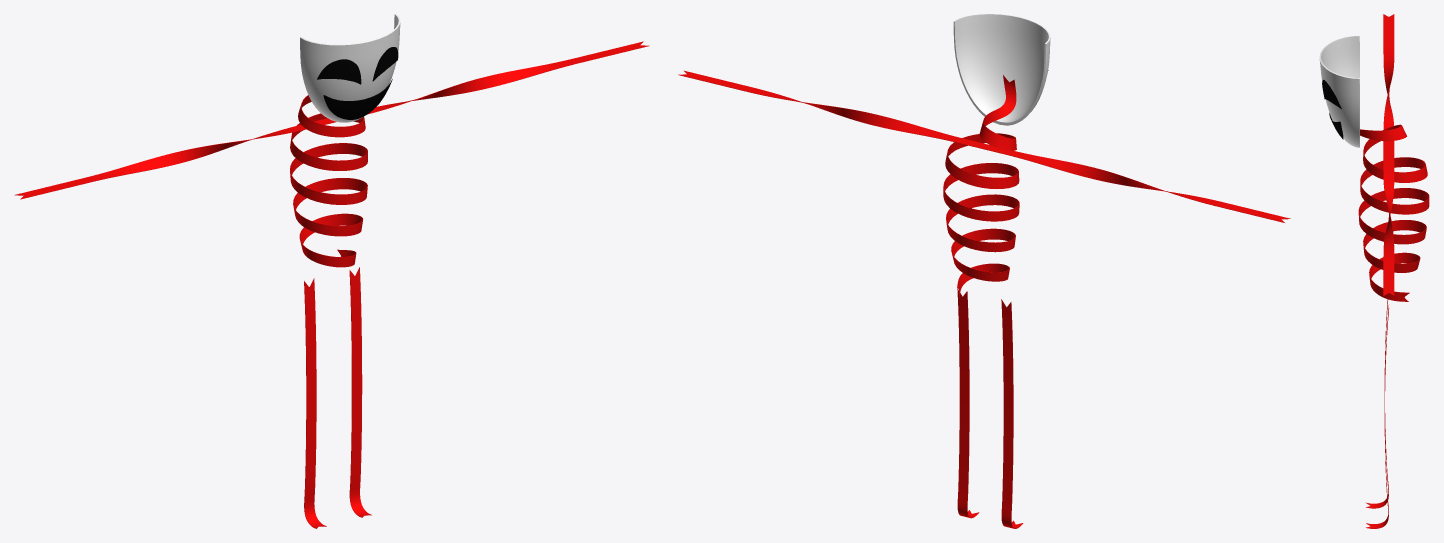
File: gangle.glb
3 views of the same model, side by side, from view 1: azimuth 30°, elevation 25°; view 2: azimuth 150°, elevation 25°; view 3: azimuth 270°, elevation 25° (orthographic). The views are drawn at different scales.
Visible parts, largest first — view 1: Object_8; view 2: Object_8; view 3: Object_8.
Part boxes in pixels (left/top/right/bottom): Object_8: left=14, top=14, right=649, bottom=528; Object_8: left=678, top=14, right=1290, bottom=528; Object_8: left=1319, top=14, right=1429, bottom=528.
Bounding box in the file's own units: 2.16 × 1.64 × 0.3561.
Materials: 1 (1 with a texture image).
